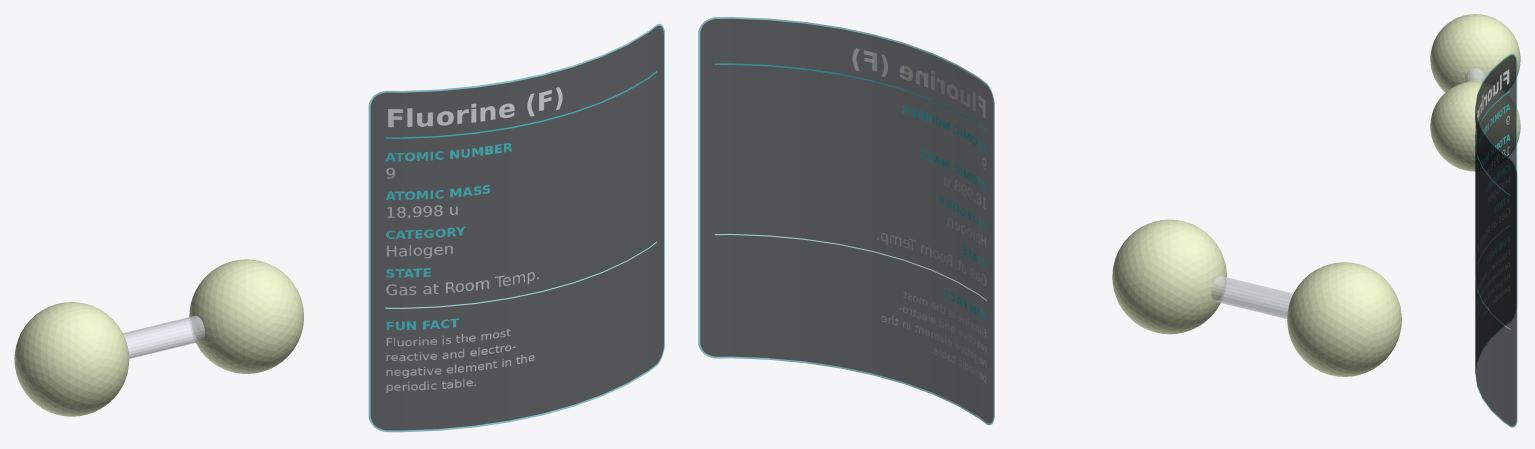
File: fluorine.glb
3 renders of one model, left to right at view 1: azimuth 30°, elevation 25°; view 2: azimuth 150°, elevation 25°; view 3: azimuth 270°, elevation 25°, orthographic. The views are drawn at different scales.
Parts seen in each view (by area): view 1: info_panel, fluorine_atom_a, fluorine_atom_b, single_bond_rod; view 2: info_panel, fluorine_atom_a, fluorine_atom_b, single_bond_rod; view 3: info_panel, fluorine_atom_a, fluorine_atom_b, single_bond_rod.
Part boxes in pixels (x1=…): info_panel: x1=368, y1=24, x2=664, y2=432; fluorine_atom_a: x1=14, y1=302, x2=129, y2=416; fluorine_atom_b: x1=189, y1=259, x2=303, y2=373; single_bond_rod: x1=123, y1=315, x2=204, y2=358; info_panel: x1=698, y1=17, x2=994, y2=425; fluorine_atom_a: x1=1287, y1=262, x2=1401, y2=376; fluorine_atom_b: x1=1112, y1=219, x2=1226, y2=334; single_bond_rod: x1=1211, y1=276, x2=1293, y2=318; info_panel: x1=1475, y1=53, x2=1517, y2=427; fluorine_atom_a: x1=1430, y1=14, x2=1520, y2=92; fluorine_atom_b: x1=1430, y1=81, x2=1520, y2=171; single_bond_rod: x1=1465, y1=68, x2=1485, y2=82.
Bounding box in the file's own units: 1 × 0.495 × 0.1485.
3 materials, 1 textured.
